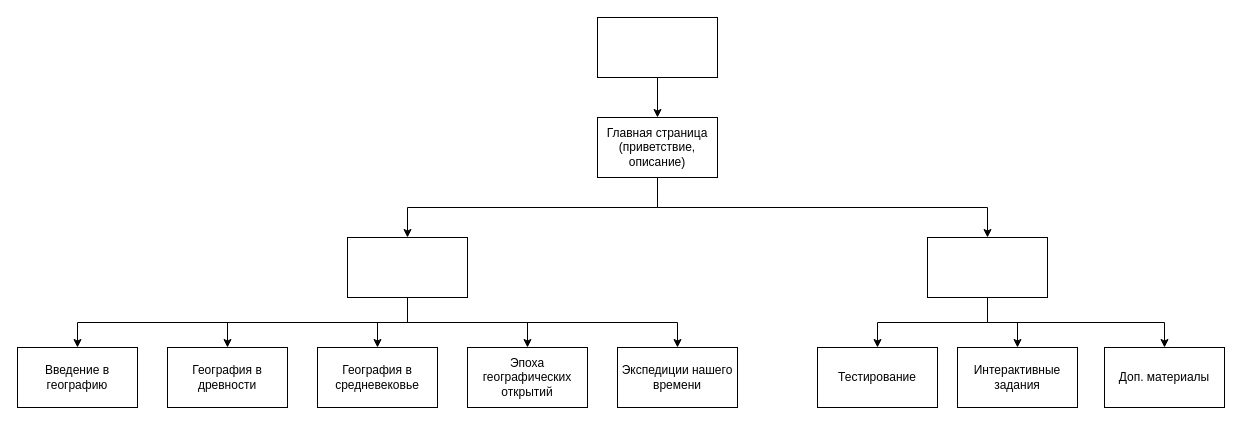
This 1242x425 diagram has some shape labels left out. Each missing label, with the centre of its shape:
Главы: [407,267]
Дополнительно: [987,267]
Мультимедийное учебное пособие Графический дизайн: [657,47]
